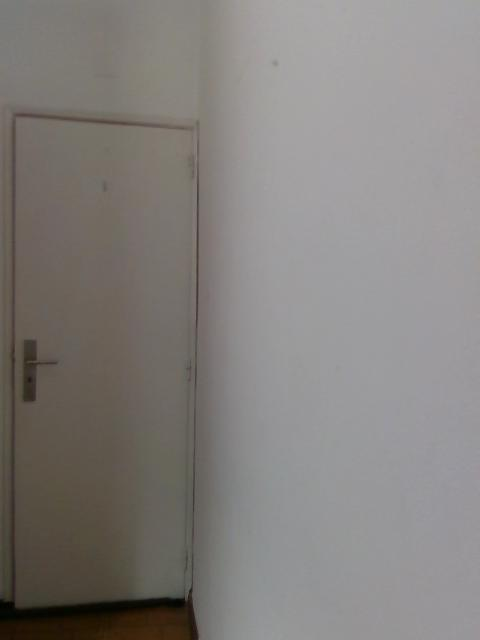door: (14, 117, 186, 606)
